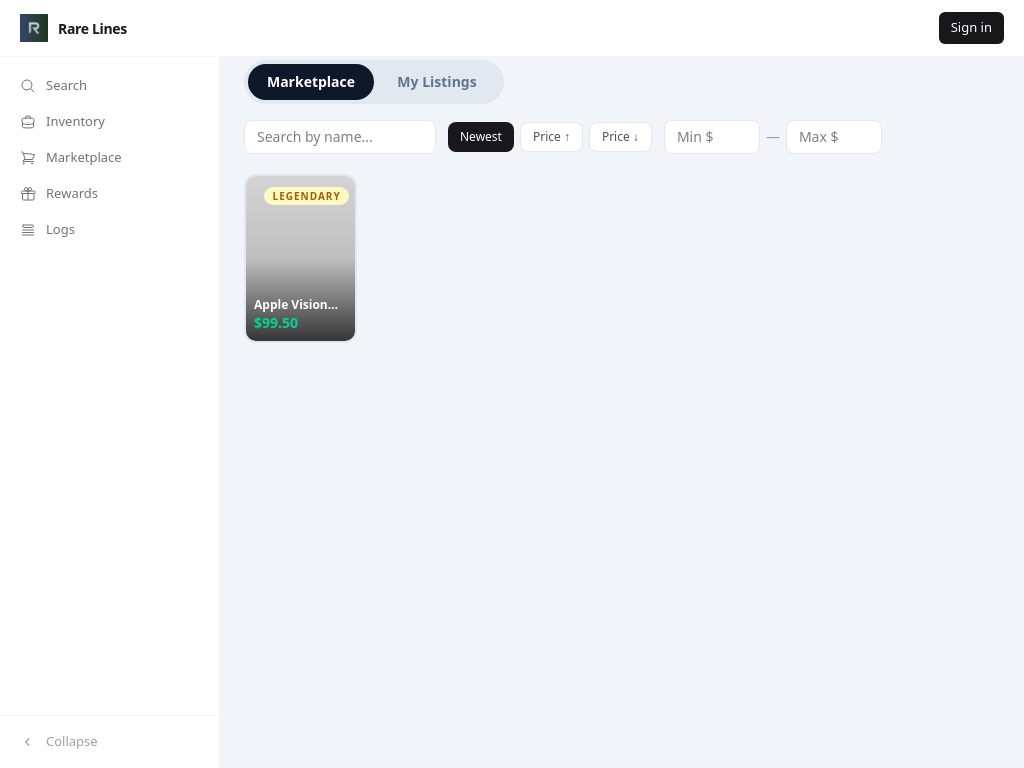
Test: Marketplace › opens the auth modal when anonymous users click My Listings
Expected: the text "Apple Vision Pro" is shown, [254, 296, 328, 329]
Step 1. Click the button "My Listings" → {"x": 437, "y": 82}, box [374, 64, 500, 100]
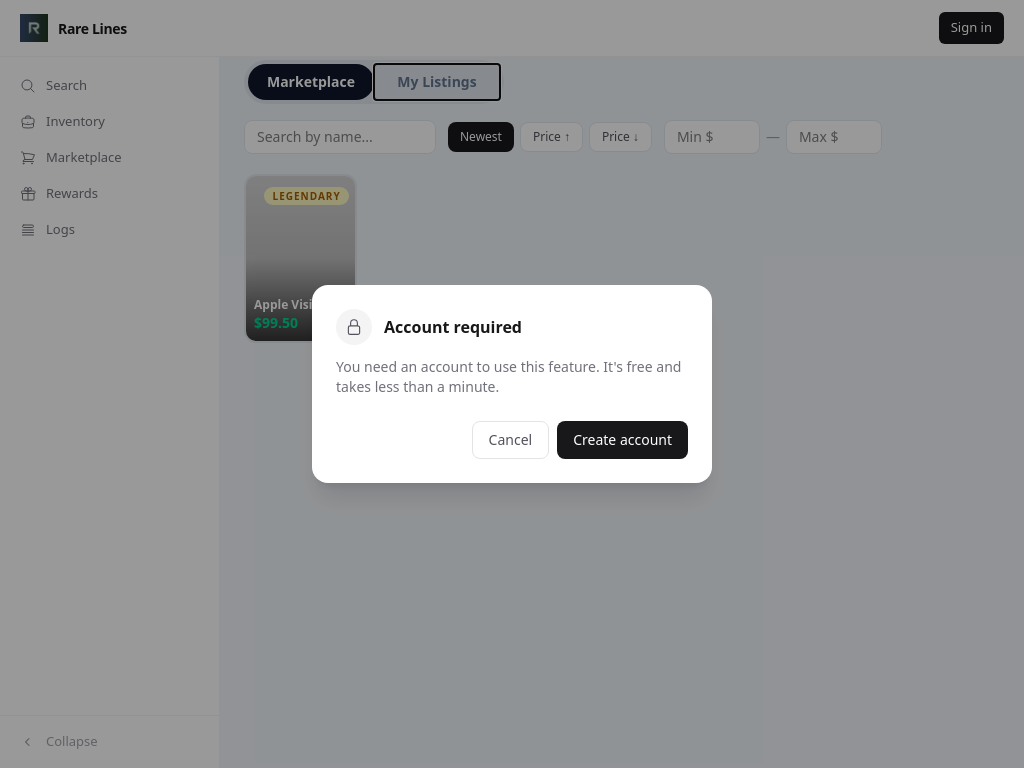
Now the heading "Account required" is shown, box [384, 315, 522, 339]
